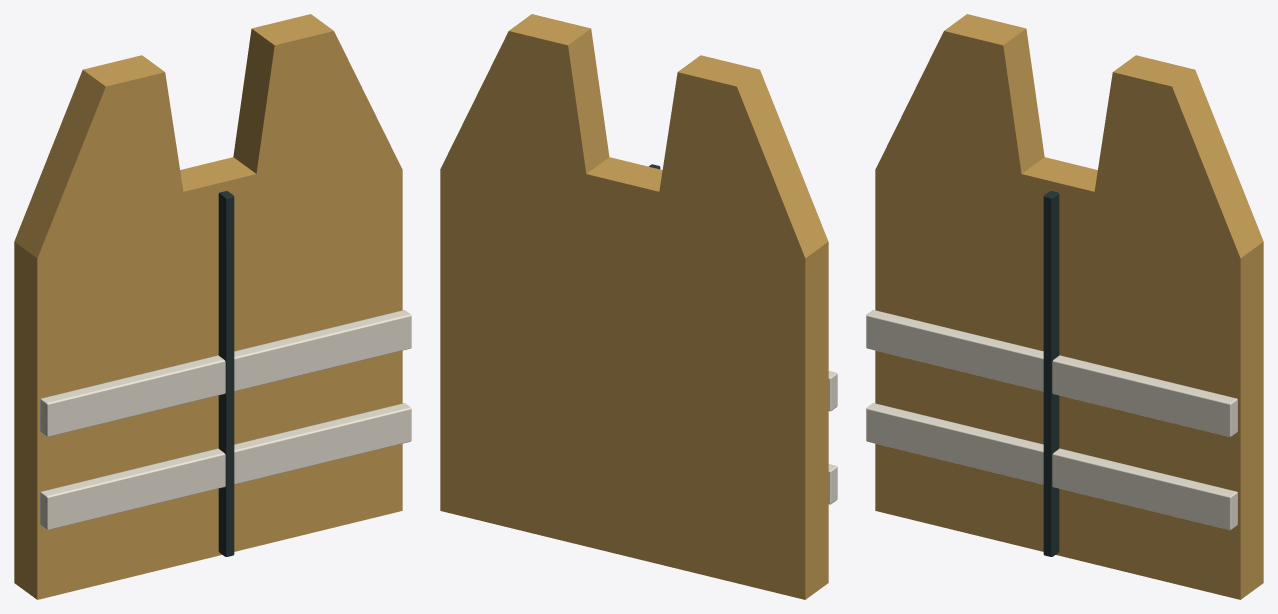
The model's file is wp-gilet-de-securite.glb.
3 renders of one model, left to right at view 1: azimuth 30°, elevation 25°; view 2: azimuth 150°, elevation 25°; view 3: azimuth 330°, elevation 25°, orthographic.
Parts seen in each view (by area): view 1: wp-gilet-de-securite; view 2: wp-gilet-de-securite; view 3: wp-gilet-de-securite.
Boxes of the visible parts, bbox=[...] form: wp-gilet-de-securite: bbox=[14, 14, 411, 599]; wp-gilet-de-securite: bbox=[440, 14, 837, 599]; wp-gilet-de-securite: bbox=[866, 14, 1263, 599].
Bounding box in the file's own units: 0.5 × 0.65 × 0.08.
